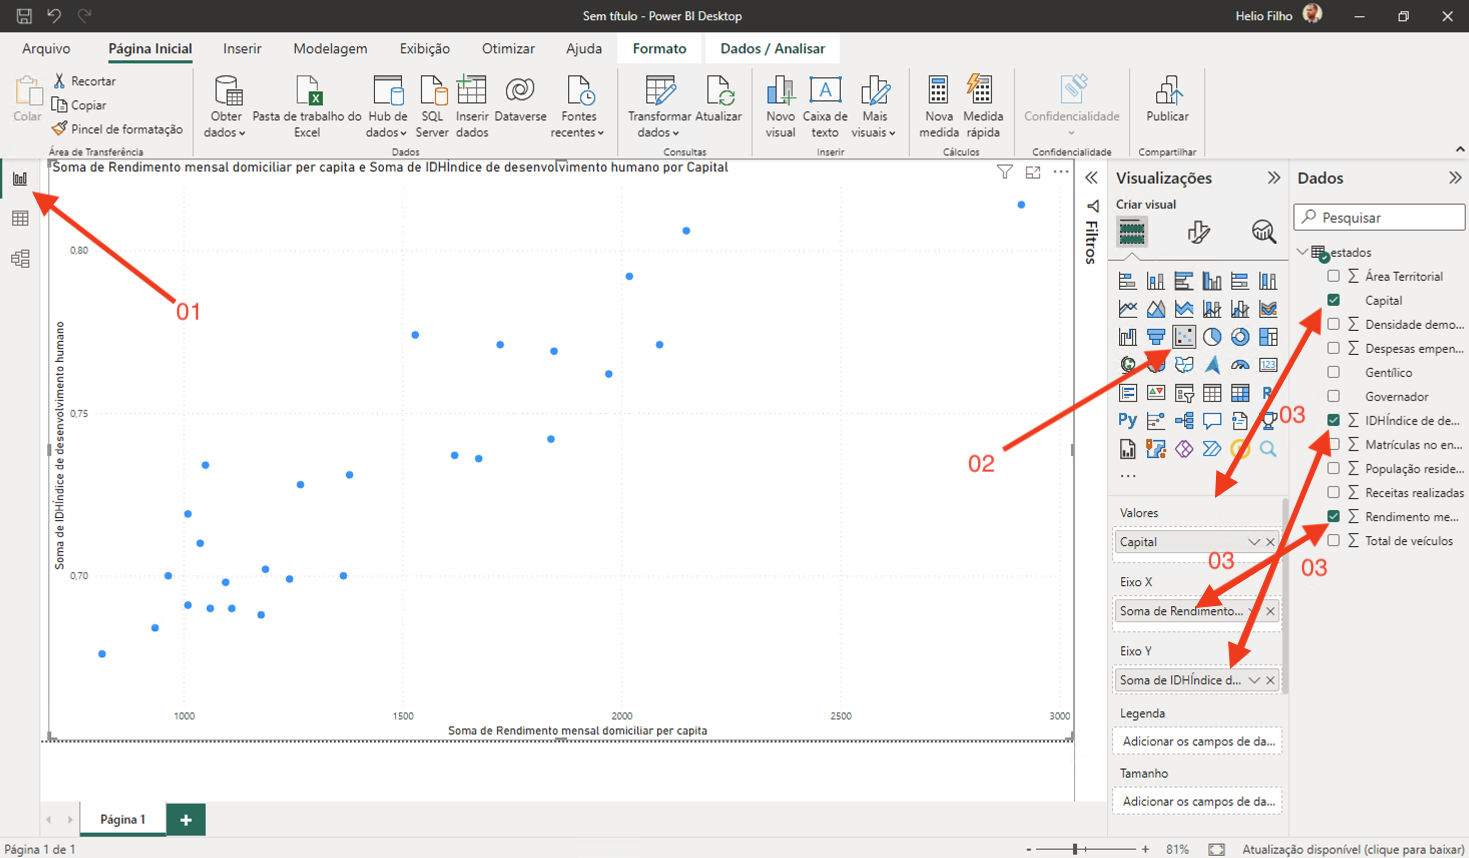

What the dashboard file says about the page in this screenshot:
{"tool":"powerbi","page":{"name":"Página 1","canvas":[1280,720],"ordinal":0},"visuals":[{"type":"scatterChart","fields":{"Category":["estados.Capital"],"Y":["Sum(estados.IDHÍndice de desenvolvimento humano)"],"X":["Sum(estados.Rendimento mensal domiciliar per capita)"]},"box":[9.9,0,1270.1,720.6],"z":0}]}

Visuals, with their boxes on the page's 1280x720 design canvas (x1, y1, x2, y2). These are canvas units, not pixel positions in the 1469x858 screenshot, which may show the page scaled, cropped or inside an application window:
scatterChart - estados.Capital x Sum(estados.IDHÍndice de desenvolvimento humano): rect(10, 0, 1280, 721)
